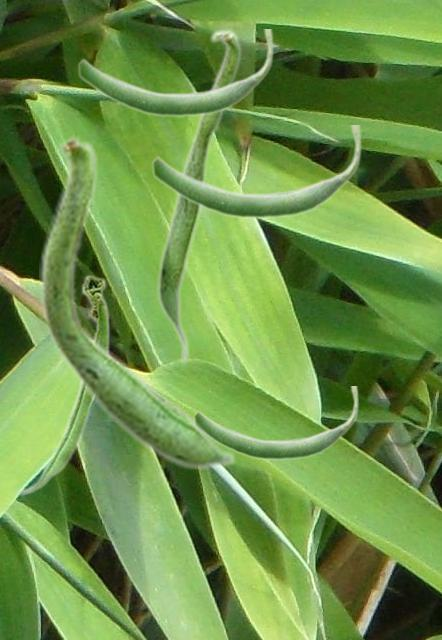french_bean: (39, 133, 235, 470), (156, 28, 241, 365), (15, 273, 109, 495), (151, 125, 361, 219), (77, 29, 273, 117), (193, 386, 358, 460)
